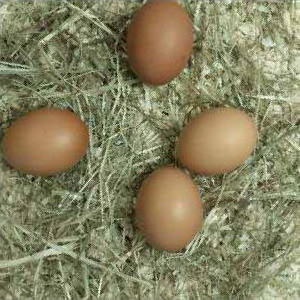egg: (134, 163, 205, 252), (1, 107, 88, 176), (125, 1, 193, 86), (175, 105, 256, 175)
